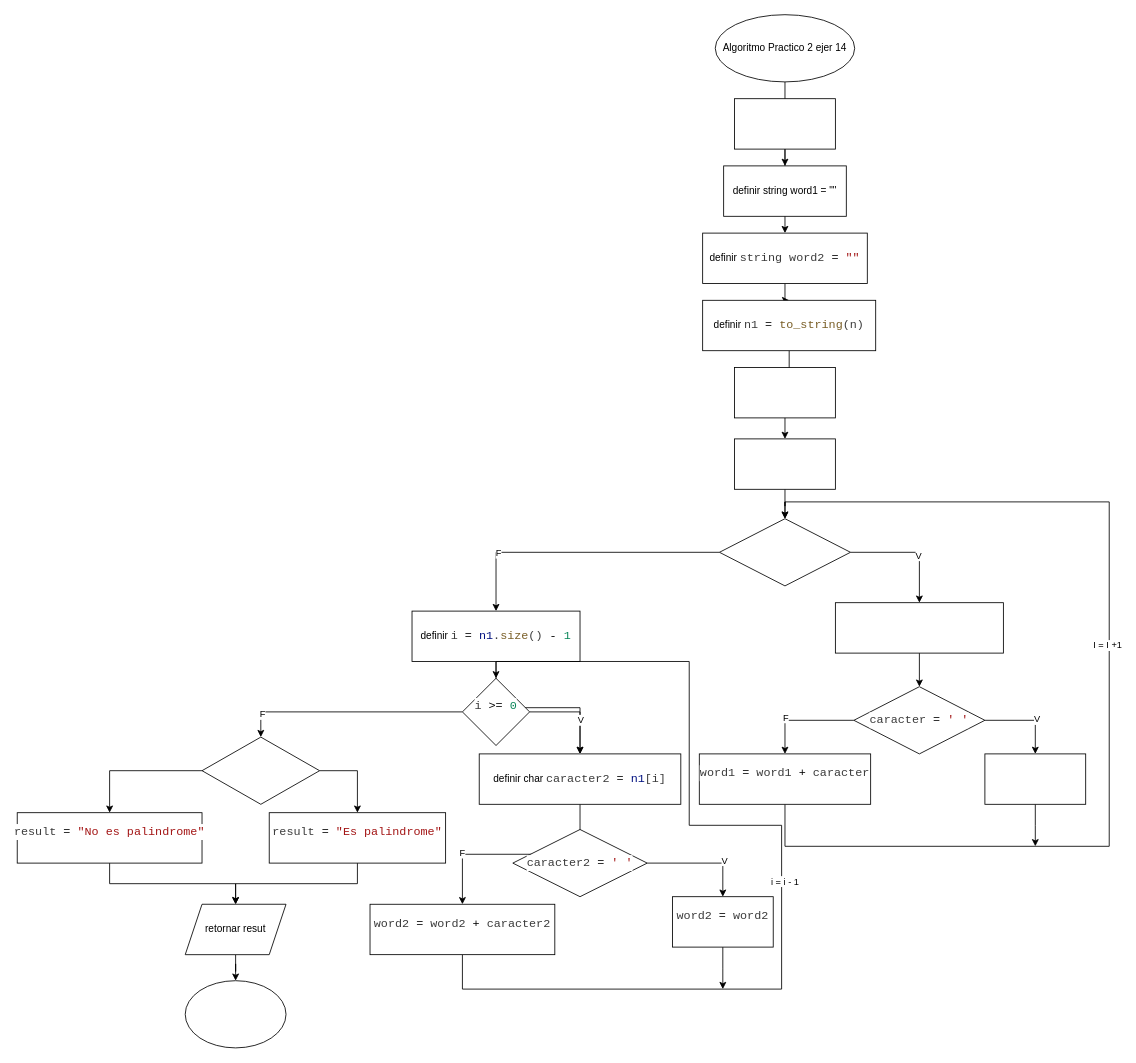
The diagram is 1136 pixels wide and 1063 high, and some of its shapes have lost their labels. The shapes that lost their labels are listed below. From the top down, each one's centre as x and y in pixels, then its label:
point (784, 123): entrada n
point (784, 392): definir string result
point (784, 463): definir i = 0
point (784, 552): i < n1 . size ()
point (919, 627): definir char caracter = n1 [i]
point (260, 770): word1 = word2
point (1035, 778): word1 = word1
point (235, 1014): FinAlgoritmo
